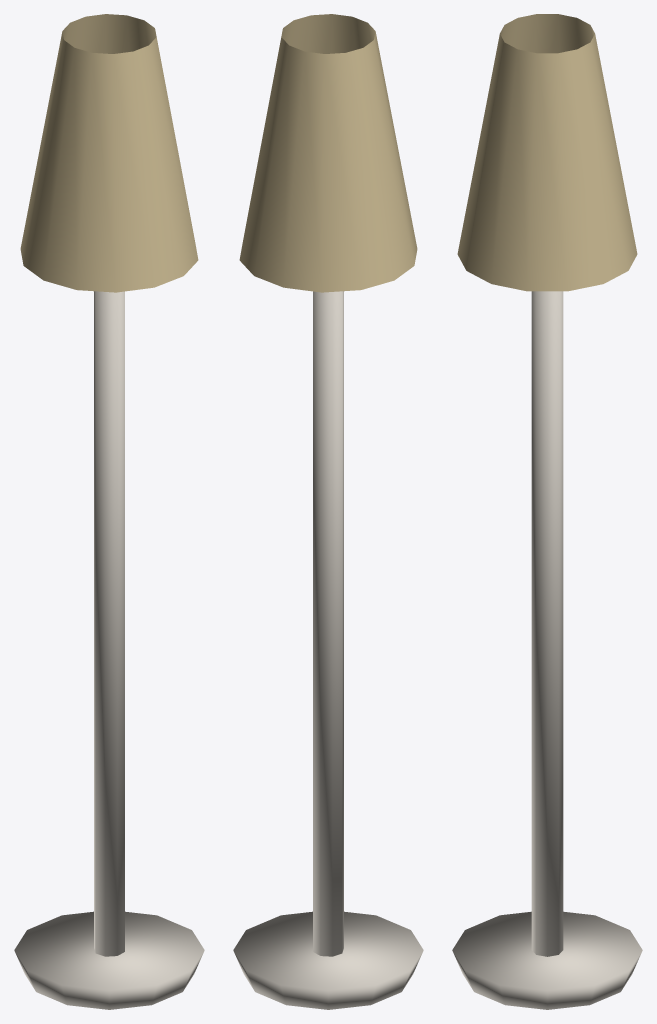
Rendered from marble_lamp_v0.glb.
The picture shows the model from 3 angles, left to right: view 1: azimuth 30°, elevation 25°; view 2: azimuth 150°, elevation 25°; view 3: azimuth 270°, elevation 25°; orthographic projection.
Parts seen in each view (by area): view 1: marble_lamp_v0; view 2: marble_lamp_v0; view 3: marble_lamp_v0.
Boxes of the visible parts, <box> form: marble_lamp_v0: <box>14,14,204,1009</box>; marble_lamp_v0: <box>233,14,423,1009</box>; marble_lamp_v0: <box>452,14,642,1009</box>.
Size of the model in its own units: 0.36 by 1.96 by 0.36.
